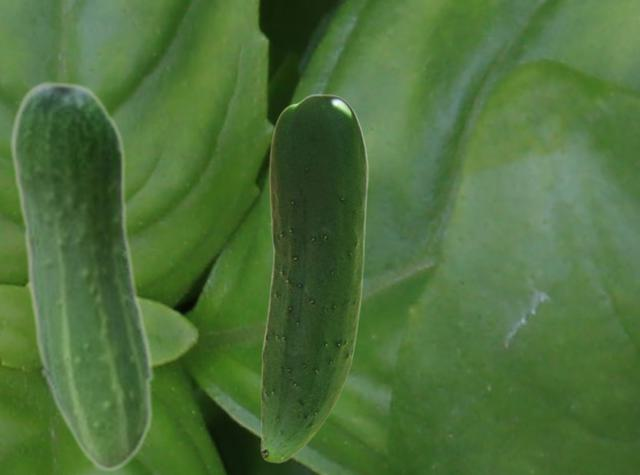cucumber: (10, 79, 154, 471), (260, 94, 367, 462)
